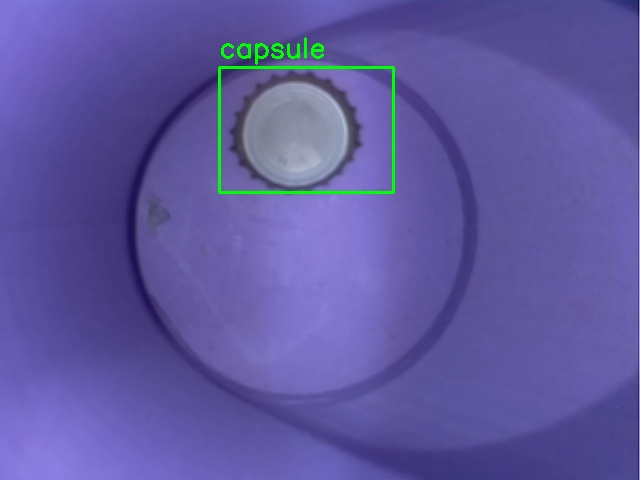capsule: (219, 67, 393, 192)
